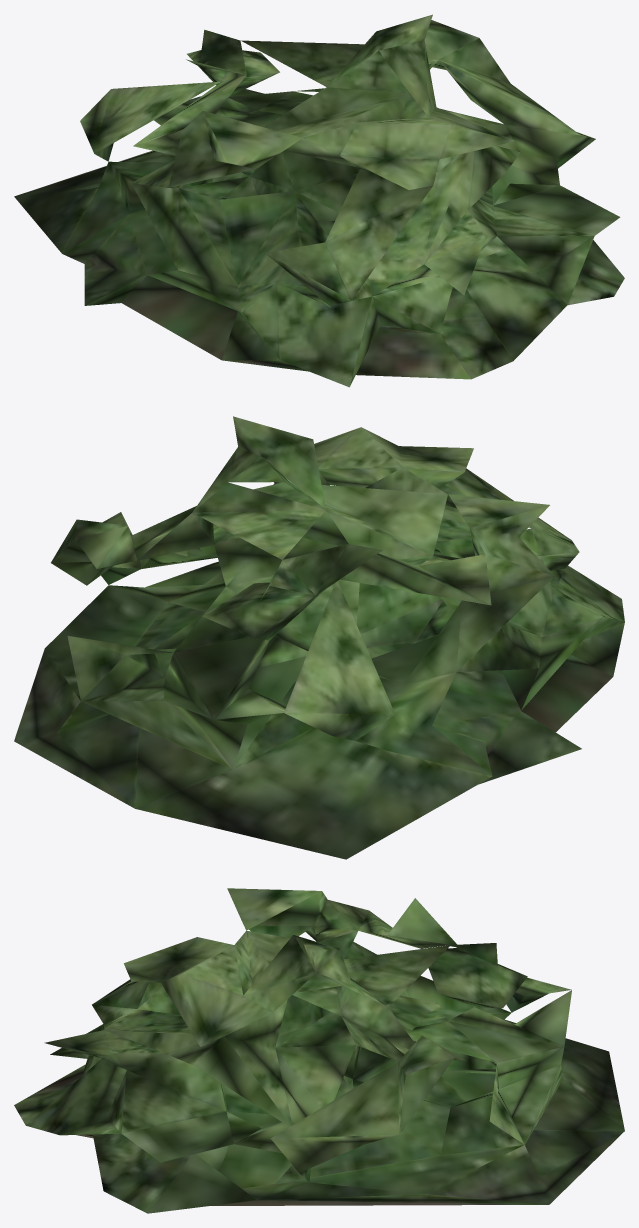
File: buisson-semis.glb
3 views of the same model, one above another, from view 1: azimuth 30°, elevation 25°; view 2: azimuth 150°, elevation 25°; view 3: azimuth 270°, elevation 25° (orthographic). The views are drawn at different scales.
Visible parts, largest first — view 1: buisson-b-semis; view 2: buisson-b-semis; view 3: buisson-b-semis.
Boxes of the visible parts, x1,y1,x2,y2 form: buisson-b-semis: (14, 14, 624, 387); buisson-b-semis: (14, 416, 624, 859); buisson-b-semis: (14, 888, 624, 1213).
Bounding box in the file's own units: 1.6 × 0.7267 × 1.81.
Materials: 1 (1 with a texture image).
